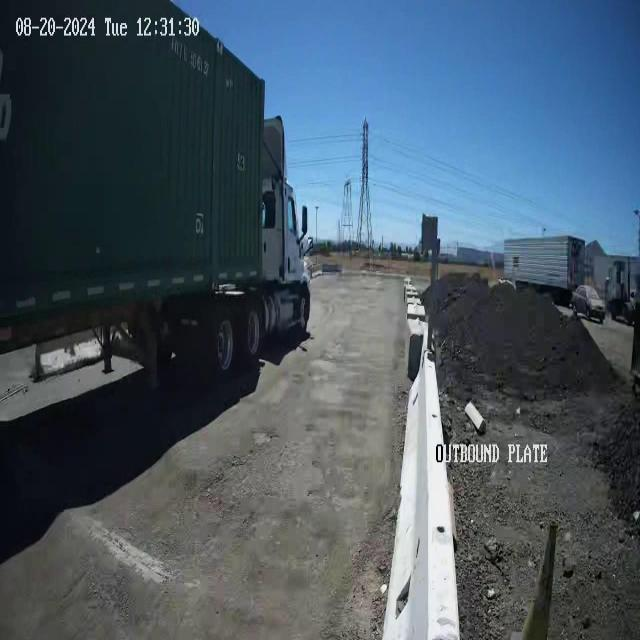TRUCK_CONTAINER: (1, 1, 312, 419)
